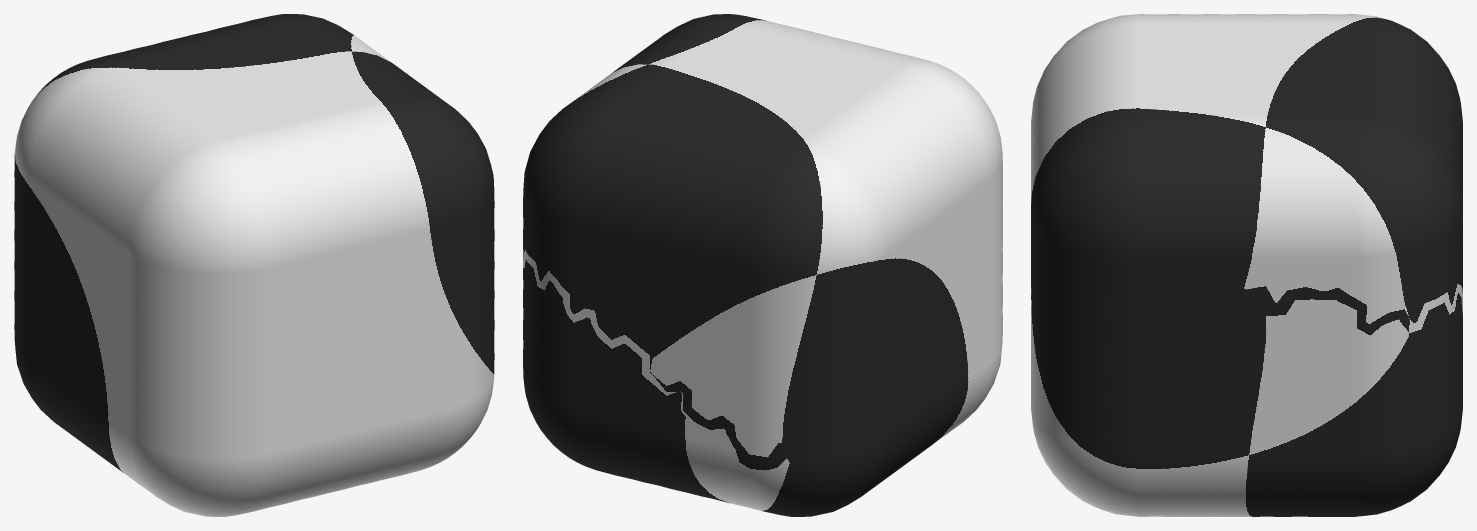
The model's file is cube_100mm_fillet_25mm_cgal_arap_result.glb.
3 views of the same model, side by side, from view 1: azimuth 30°, elevation 25°; view 2: azimuth 150°, elevation 25°; view 3: azimuth 270°, elevation 25° (orthographic). The views are drawn at different scales.
Bounding box in the file's own units: 100 × 100 × 100.
Materials: 1 (1 with a texture image).
